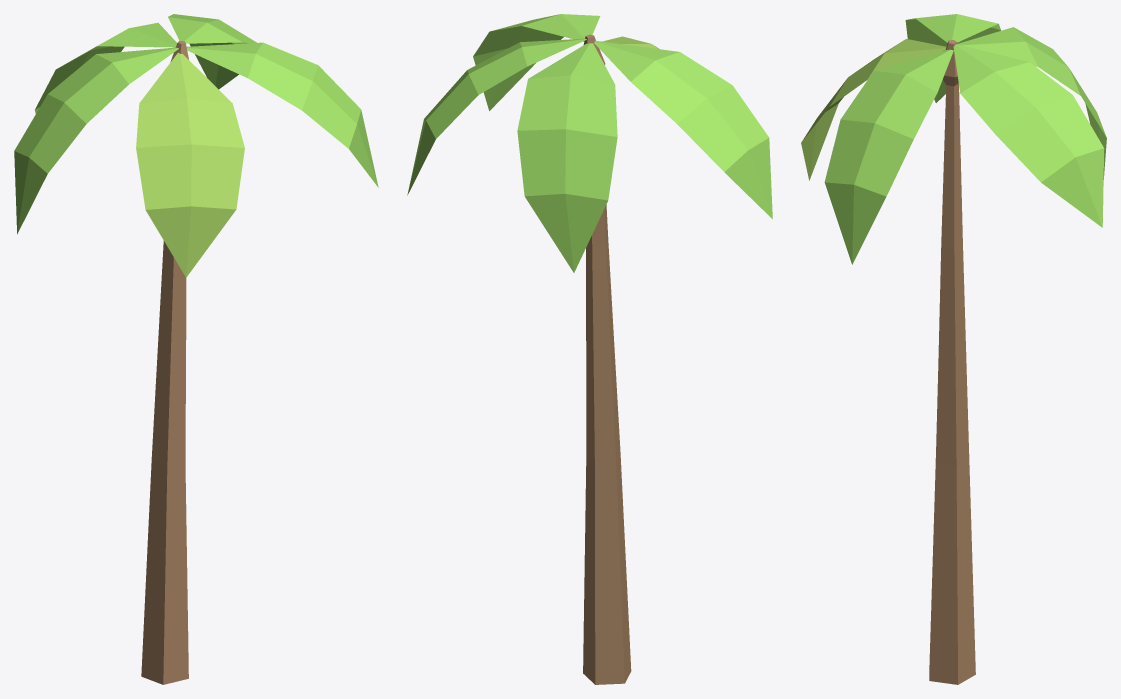
Rendered from Palm_Tree_OneSided_s_01.fbx.
3 views of the same model, side by side, from view 1: azimuth 30°, elevation 25°; view 2: azimuth 150°, elevation 25°; view 3: azimuth 270°, elevation 25° (orthographic). The views are drawn at different scales.
Visible parts, largest first — view 1: Palm_Tree_OneSided_s_01; view 2: Palm_Tree_OneSided_s_01; view 3: Palm_Tree_OneSided_s_01.
Boxes of the visible parts, box(x1,y1,x2,y2) form: Palm_Tree_OneSided_s_01: box(14, 14, 378, 684); Palm_Tree_OneSided_s_01: box(407, 14, 772, 684); Palm_Tree_OneSided_s_01: box(801, 14, 1106, 684).
Size of the model in its own units: 249 by 465 by 201.
